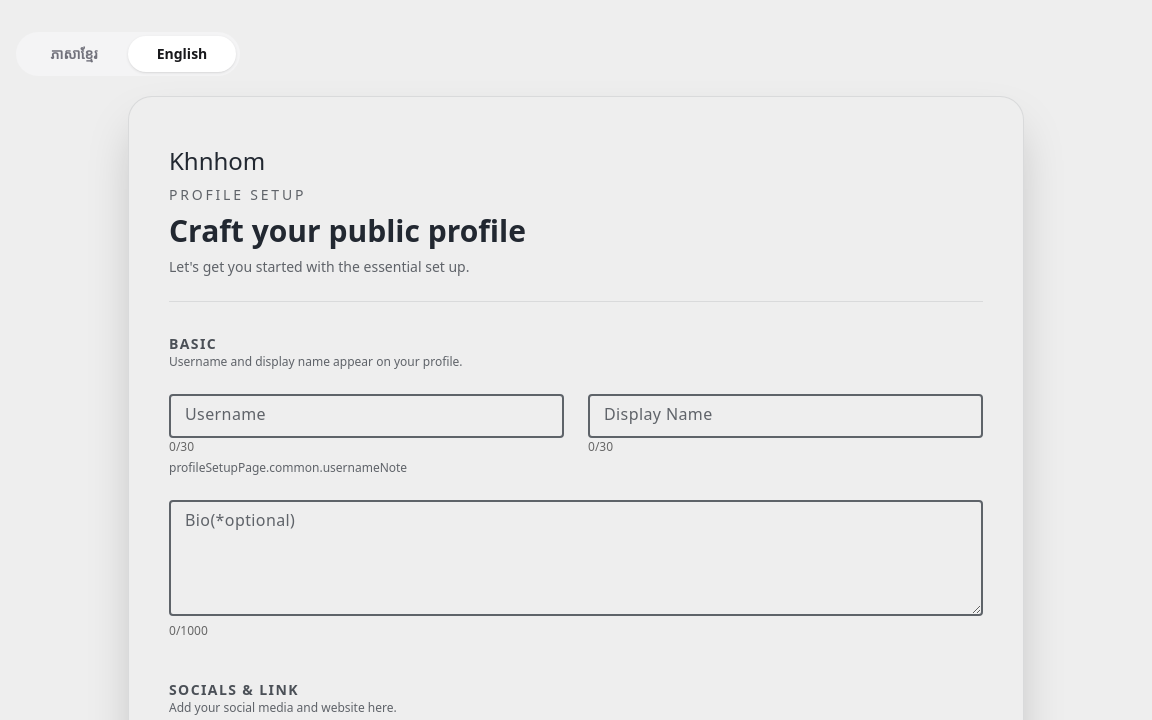
ProfileForm › displays character count for bio
Type "This is a test bio" into the text box labelled "Bio(*optional)". click: (576, 558)
box: [169, 500, 983, 616]
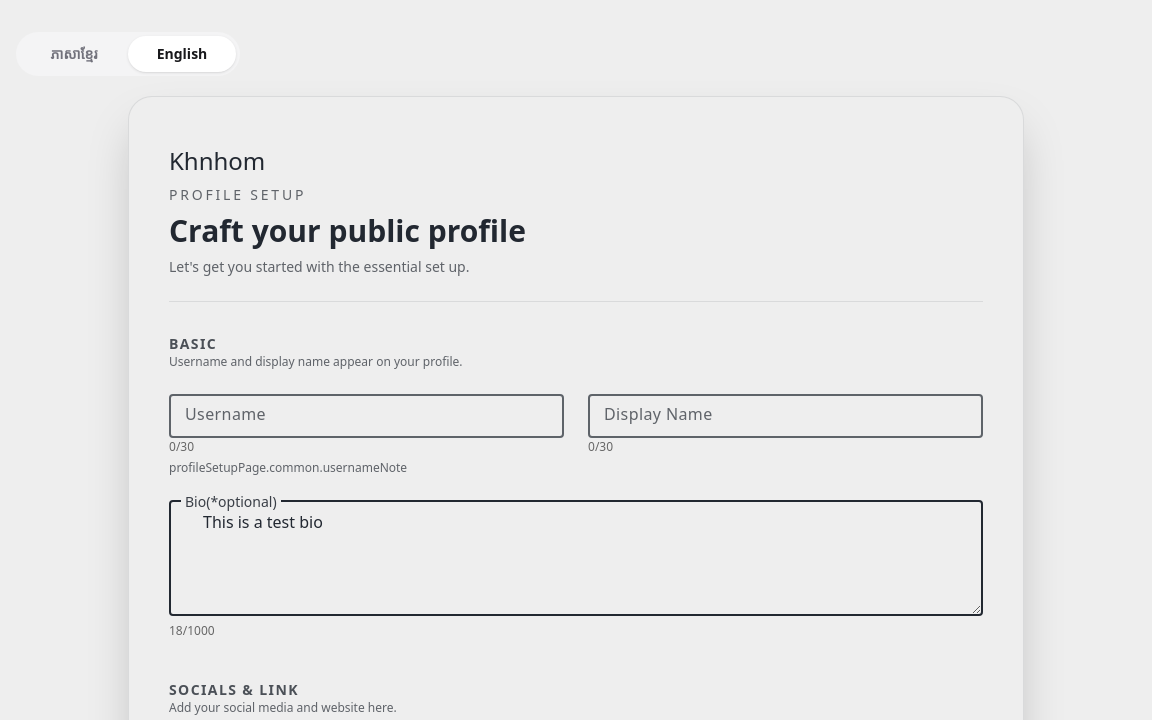
Result: the text "18/1000" is shown at [169, 622, 215, 639]
